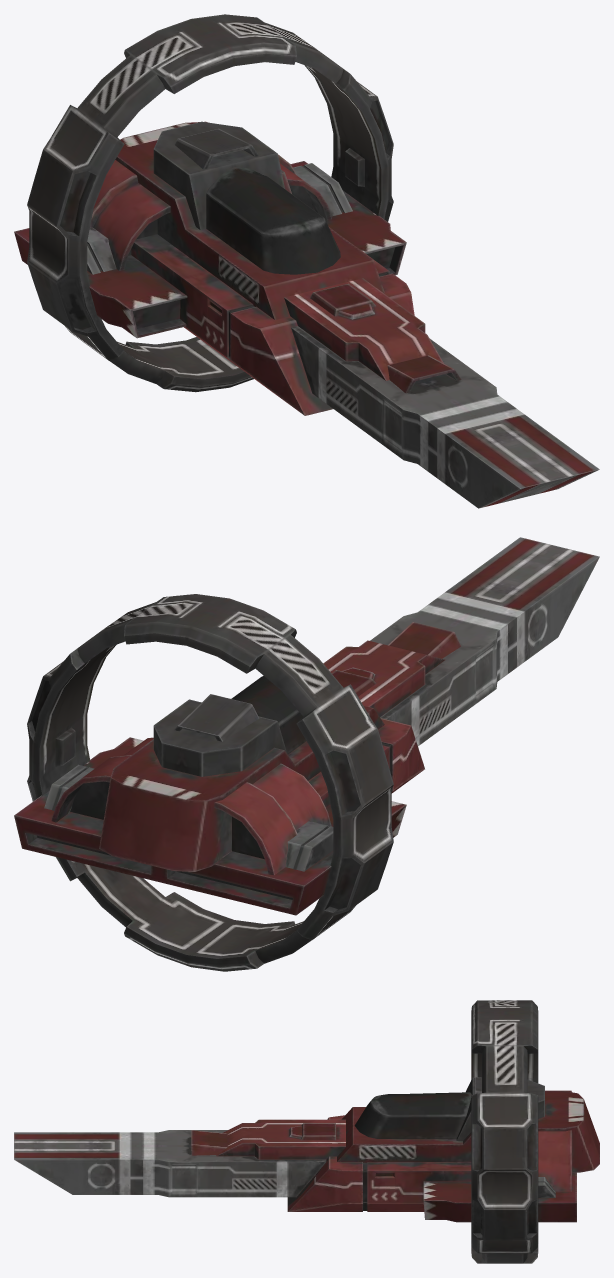
The model's file is Zenith.glb.
3 renders of one model, top to bottom at view 1: azimuth 30°, elevation 25°; view 2: azimuth 150°, elevation 25°; view 3: azimuth 270°, elevation 25°, orthographic. The views are drawn at different scales.
Visible parts, largest first — view 1: Zenith; view 2: Zenith; view 3: Zenith.
Boxes of the visible parts, bbox=[...] form: Zenith: bbox=[14, 14, 599, 508]; Zenith: bbox=[14, 537, 599, 971]; Zenith: bbox=[14, 1000, 599, 1263].
Bounding box in the file's own units: 5.63 × 5.43 × 12.07.
Materials: 1 (1 with a texture image).
